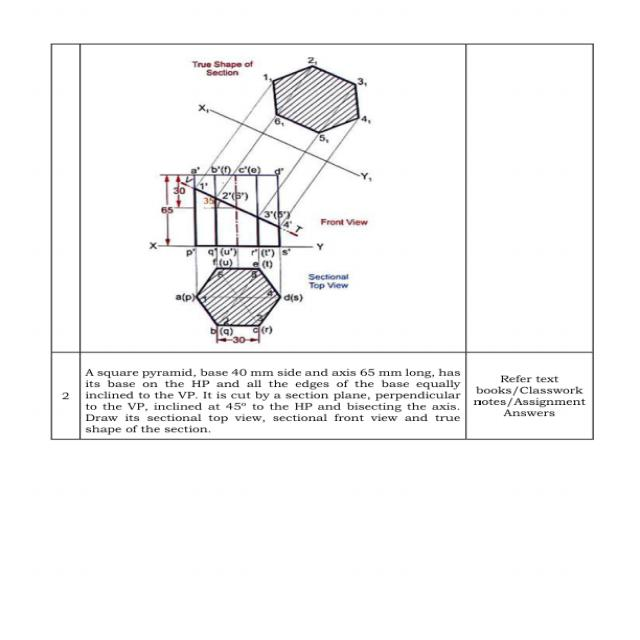Drawings: (138, 52, 386, 346)
